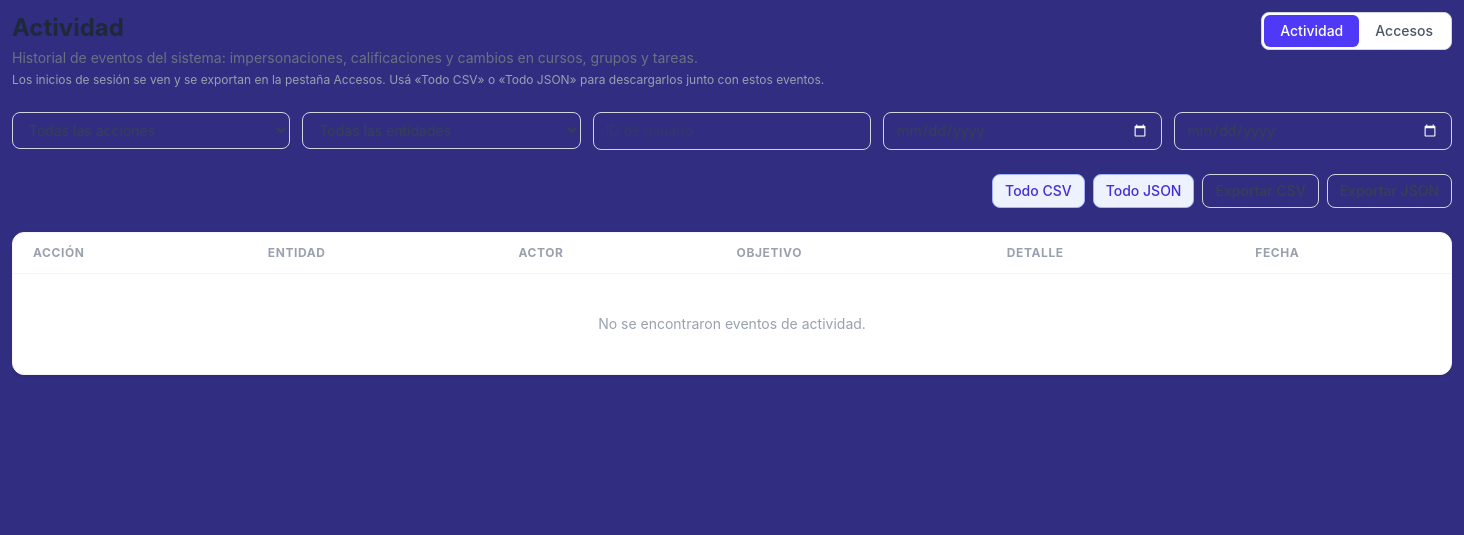
Test case: AdminActivityPage › muestra un error si fallan las metricas de acceso
What coordinates should you click on to do the following:
click the button "Accesos"
I would click on:
 (1404, 31)
Its box is [1359, 15, 1449, 47].
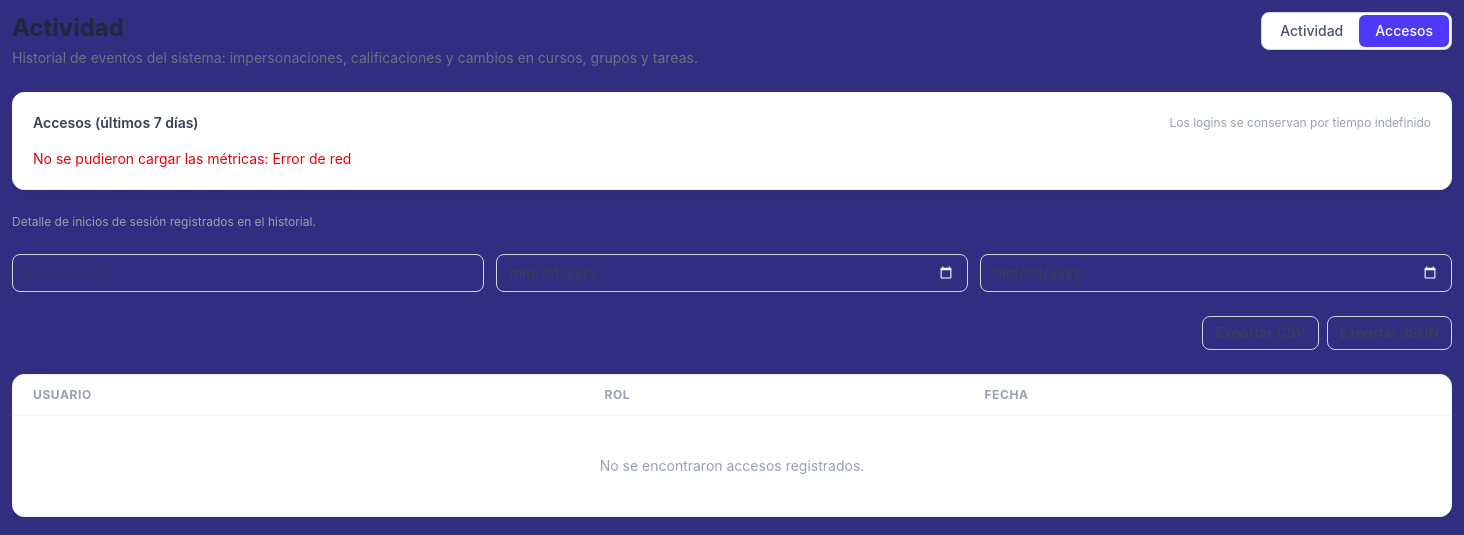
Expected: the text "No se pudieron cargar las métricas: Error de red" is shown, [33, 150, 351, 167]
